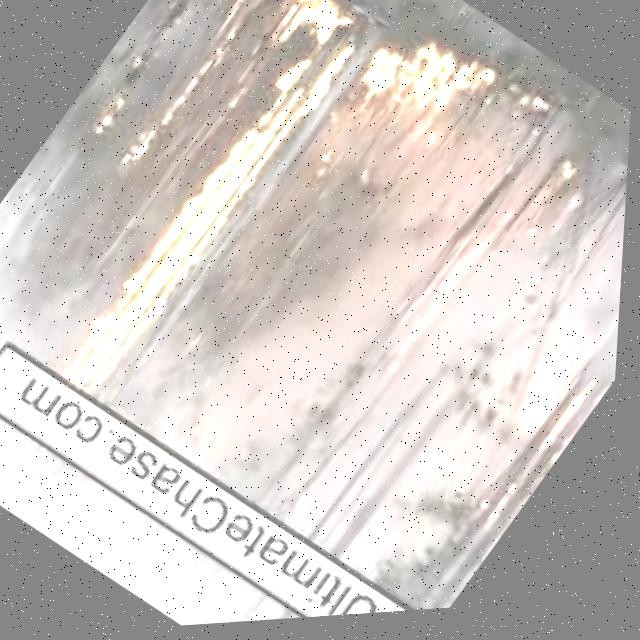Fire: (63, 0, 368, 399), (71, 0, 284, 163), (354, 9, 500, 154), (494, 376, 612, 515)
Smoke: (171, 17, 638, 607), (0, 321, 420, 640), (572, 179, 630, 400)
